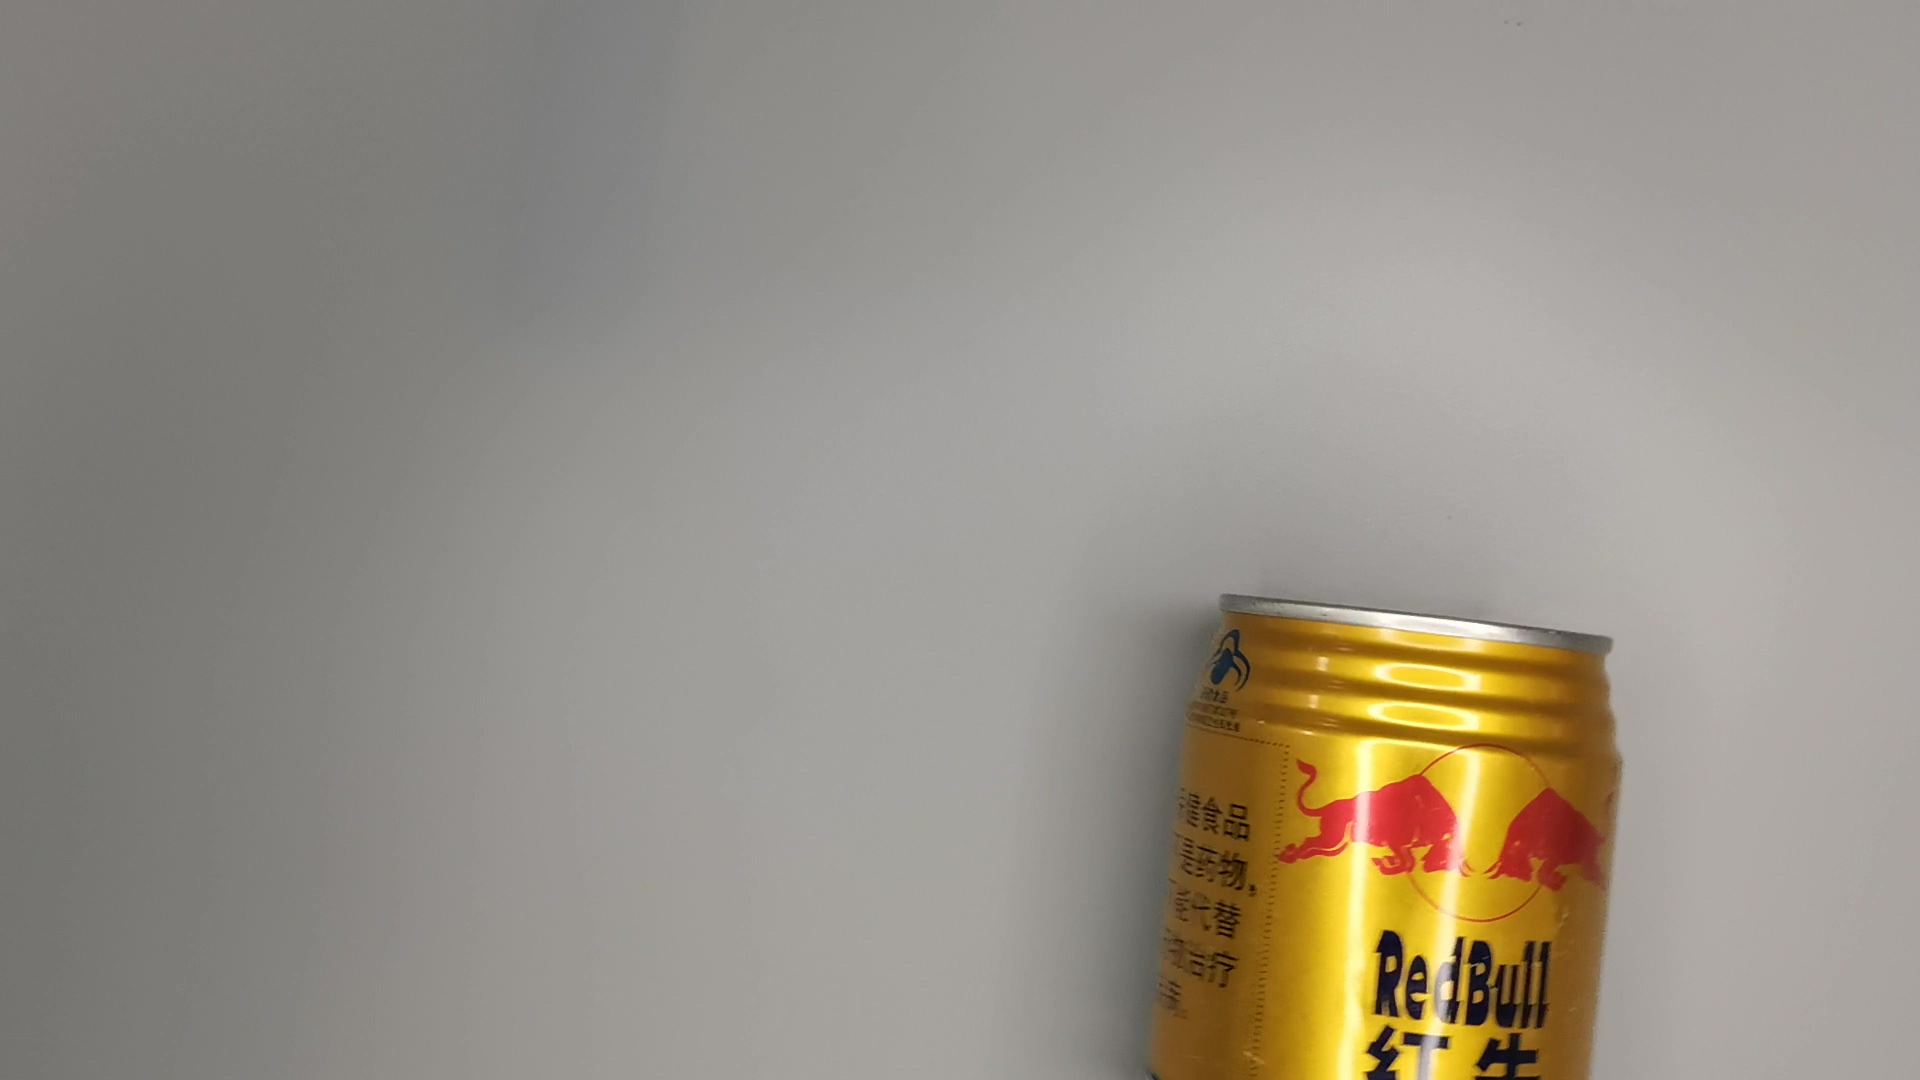can: (1126, 589, 1630, 1080)
